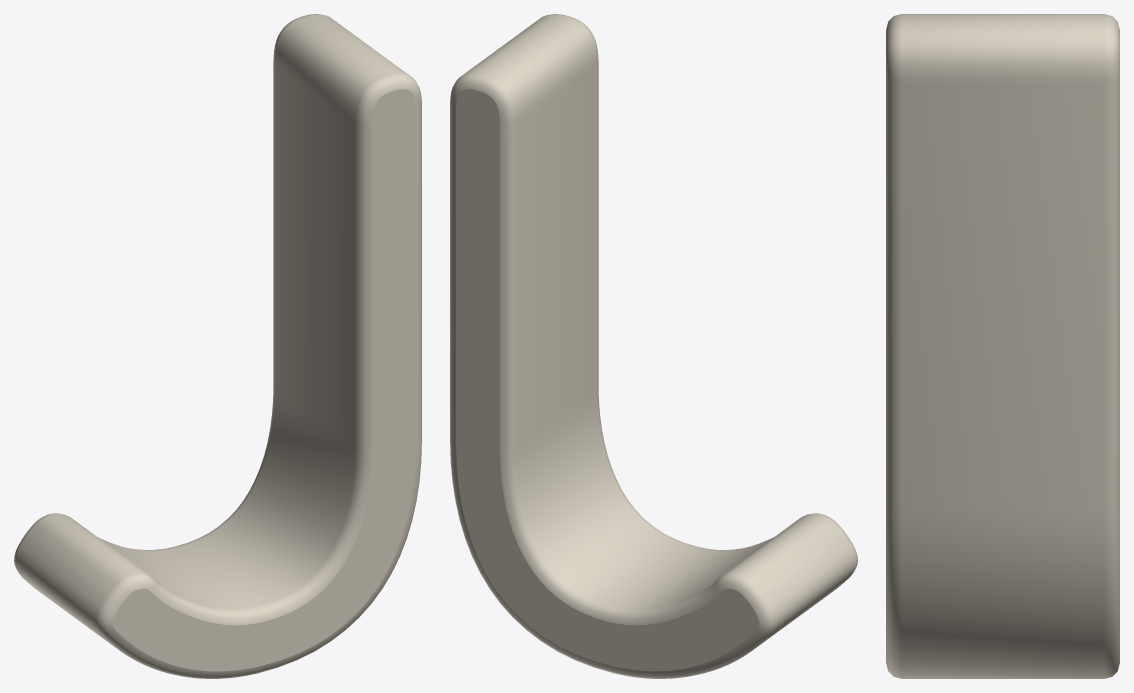
The model's file is letter_j.glb.
3 renders of one model, left to right at view 1: azimuth 30°, elevation 25°; view 2: azimuth 150°, elevation 25°; view 3: azimuth 270°, elevation 25°, orthographic. The views are drawn at different scales.
Parts seen in each view (by area): view 1: color_body; view 2: color_body; view 3: color_body.
Boxes of the visible parts, box(x1,y1,x2,y2) form: color_body: box(14, 14, 421, 678); color_body: box(450, 14, 857, 678); color_body: box(886, 14, 1119, 678).
Bounding box in the file's own units: 0.4904 × 0.816 × 0.242.
